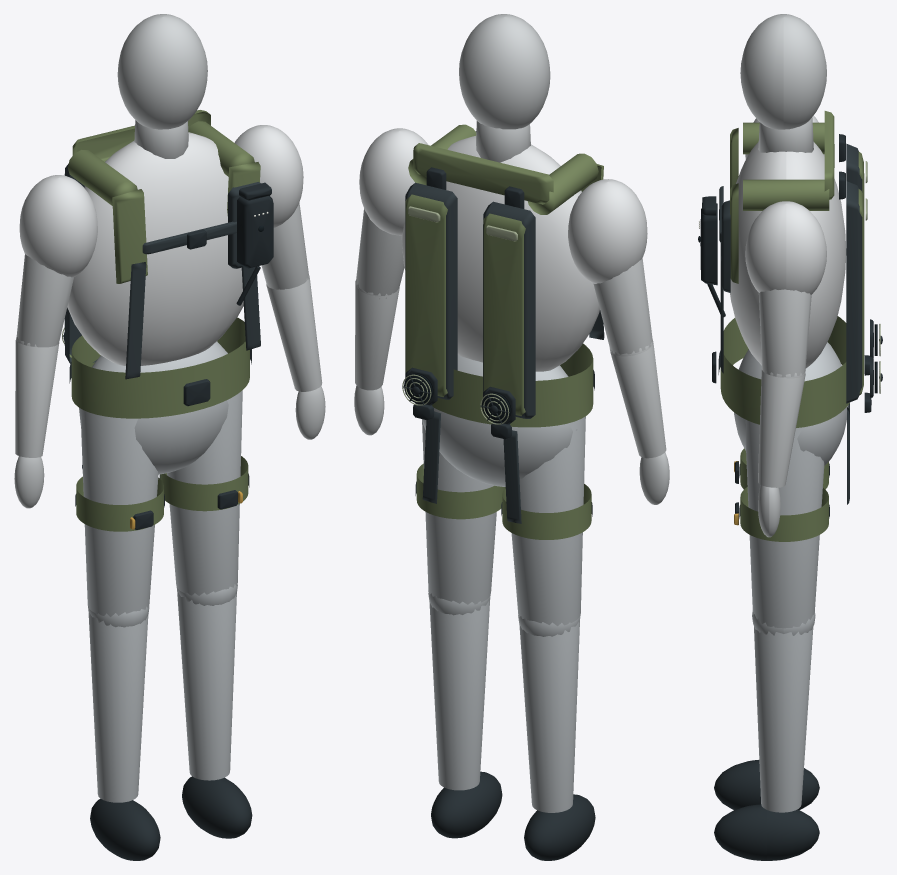
3 views of the same model, side by side, from view 1: azimuth 30°, elevation 25°; view 2: azimuth 150°, elevation 25°; view 3: azimuth 270°, elevation 25° (orthographic).
Visible parts, largest first — view 1: Neutral shirt torso, Trouser leg upper (×2), Trouser leg lower (×2), Shirt sleeve (×2), Broad padded waist interface, Faceless presentation mannequin, Forearm (×2), Neutral shoe (×2), Upper arm (×2), Neutral trousers pelvis, Thigh anchor padded interface (×2), Front padded shoulder rail (×2) (+11 smaller); view 2: Trouser leg lower (×2), Trouser leg upper (×2), Independent flexible working cover (×2), Neutral shirt torso, Shirt sleeve (×2), Faceless presentation mannequin, Forearm (×2), Upper arm (×2), Neutral shoe (×2), Neutral trousers pelvis, Independent module perimeter (×2), Broad padded waist interface (+7 smaller); view 3: Trouser leg upper, Neutral shirt torso, Trouser leg lower, Faceless presentation mannequin, Neutral shoe (×2), Shirt sleeve, Broad padded waist interface, Upper arm, Independent module perimeter (×2), Forearm, Shoulder bridge (×2), Neutral trousers pelvis (+10 smaller).
Boxes of the visible parts, x1=… form: Neutral shirt torso: x1=67, y1=132, x2=243, y2=365; Trouser leg upper (×2): x1=81, y1=390, x2=242, y2=616; Trouser leg lower (×2): x1=88, y1=590, x2=236, y2=802; Shirt sleeve (×2): x1=19, y1=125, x2=303, y2=277; Broad padded waist interface: x1=71, y1=317, x2=249, y2=418; Faceless presentation mannequin: x1=117, y1=14, x2=207, y2=129; Forearm (×2): x1=15, y1=275, x2=322, y2=457; Neutral shoe (×2): x1=90, y1=776, x2=252, y2=860; Upper arm (×2): x1=16, y1=202, x2=308, y2=347; Neutral trousers pelvis: x1=79, y1=341, x2=228, y2=474; Thigh anchor padded interface (×2): x1=76, y1=456, x2=248, y2=531; Front padded shoulder rail (×2): x1=112, y1=162, x2=260, y2=283; Trouser leg lower (×2): x1=429, y1=598, x2=579, y2=812; Trouser leg upper (×2): x1=422, y1=416, x2=585, y2=626; Independent flexible working cover (×2): x1=405, y1=194, x2=525, y2=416; Neutral shirt torso: x1=401, y1=136, x2=599, y2=371; Shirt sleeve (×2): x1=359, y1=128, x2=647, y2=283; Faceless presentation mannequin: x1=459, y1=14, x2=550, y2=129; Forearm (×2): x1=355, y1=280, x2=666, y2=458; Upper arm (×2): x1=356, y1=208, x2=652, y2=354; Neutral shoe (×2): x1=431, y1=771, x2=595, y2=860; Neutral trousers pelvis: x1=422, y1=355, x2=577, y2=486; Independent module perimeter (×2): x1=405, y1=182, x2=535, y2=418; Broad padded waist interface: x1=432, y1=343, x2=593, y2=427; Trouser leg upper: x1=745, y1=419, x2=824, y2=628; Neutral shirt torso: x1=730, y1=142, x2=846, y2=368; Trouser leg lower: x1=754, y1=627, x2=813, y2=812; Faceless presentation mannequin: x1=740, y1=14, x2=826, y2=129; Neutral shoe (×2): x1=714, y1=760, x2=819, y2=860; Shirt sleeve: x1=745, y1=201, x2=826, y2=294; Broad padded waist interface: x1=720, y1=316, x2=849, y2=427; Upper arm: x1=758, y1=289, x2=811, y2=376; Independent module perimeter (×2): x1=846, y1=143, x2=862, y2=403; Forearm: x1=758, y1=370, x2=805, y2=487; Shoulder bridge (×2): x1=743, y1=122, x2=829, y2=210; Neutral trousers pelvis: x1=734, y1=342, x2=848, y2=465.
Size of the model in its own units: 0.74 by 1.88 by 0.384.
